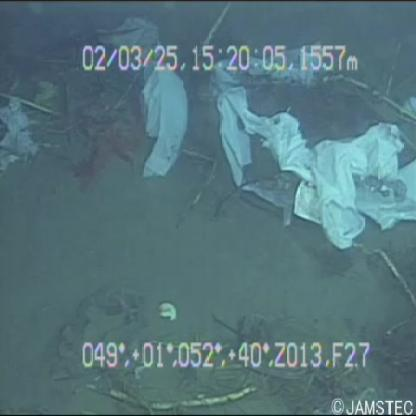Rác: (199, 72, 416, 262), (121, 46, 190, 201)
